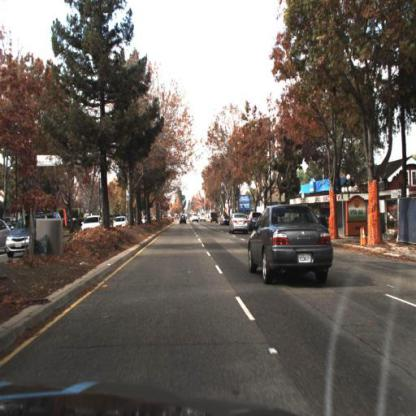car: (247, 201, 336, 289), (8, 214, 48, 259), (79, 213, 104, 237), (230, 212, 248, 238), (112, 215, 130, 231), (178, 210, 188, 227), (190, 213, 200, 229)
